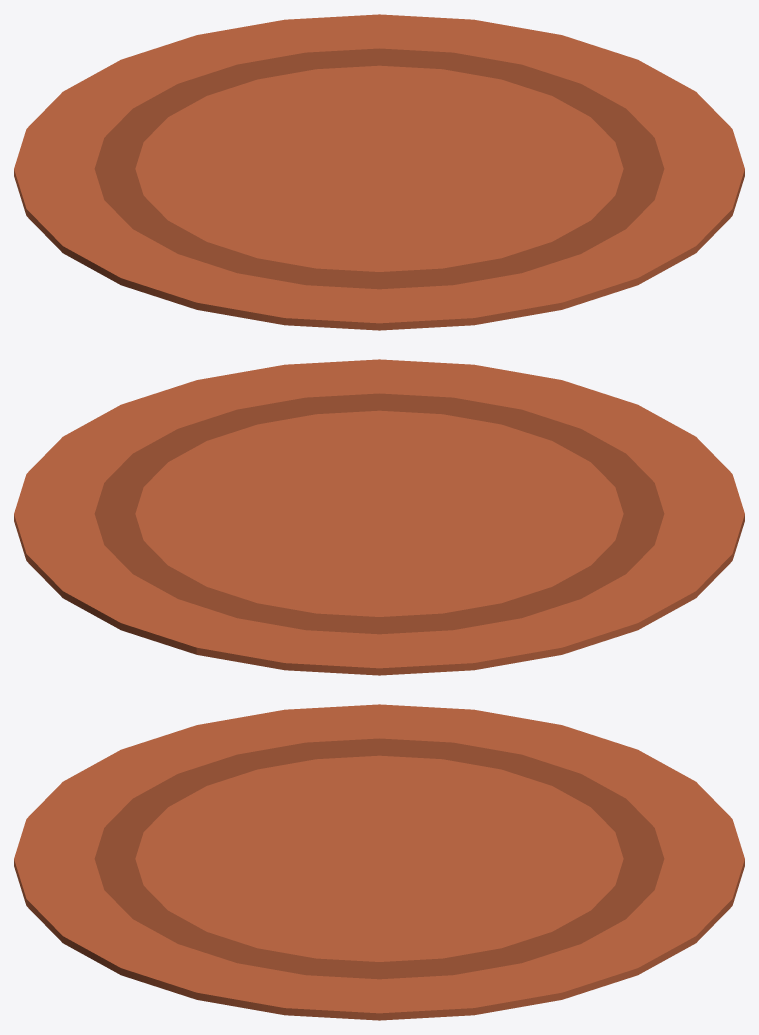
Rendered from rugRound.glb.
3 renders of one model, top to bottom at view 1: azimuth 30°, elevation 25°; view 2: azimuth 150°, elevation 25°; view 3: azimuth 270°, elevation 25°, orthographic.
Parts seen in each view (by area): view 1: rugRound; view 2: rugRound; view 3: rugRound.
Part boxes in pixels (x1=…): rugRound: x1=14, y1=14, x2=744, y2=330; rugRound: x1=14, y1=359, x2=744, y2=675; rugRound: x1=14, y1=704, x2=744, y2=1020.
Bounding box in the file's own units: 1.84 × 0.02 × 1.84.
